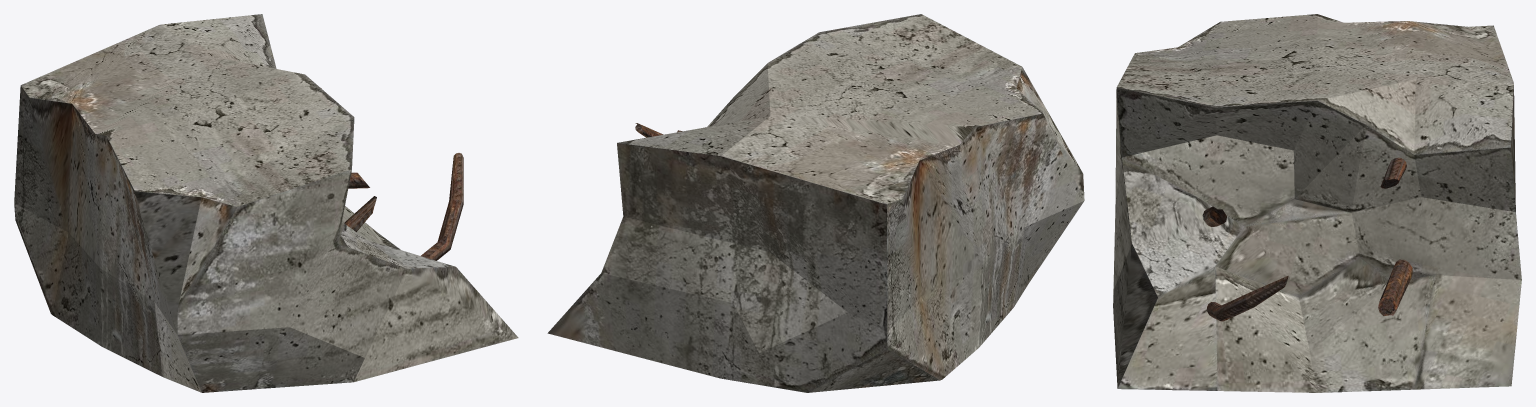
The model's file is PartOfColumn.fbx.
3 renders of one model, left to right at view 1: azimuth 30°, elevation 25°; view 2: azimuth 150°, elevation 25°; view 3: azimuth 270°, elevation 25°, orthographic. The views are drawn at different scales.
Parts seen in each view (by area): view 1: Cube.003; view 2: Cube.003; view 3: Cube.003.
Boxes of the visible parts, x1,y1,x2,y2 form: Cube.003: [14, 14, 518, 392]; Cube.003: [547, 14, 1084, 392]; Cube.003: [1113, 14, 1521, 392].
Size of the model in its own units: 52.74 by 31.35 by 50.17.
Materials: 1 (1 with a texture image).
